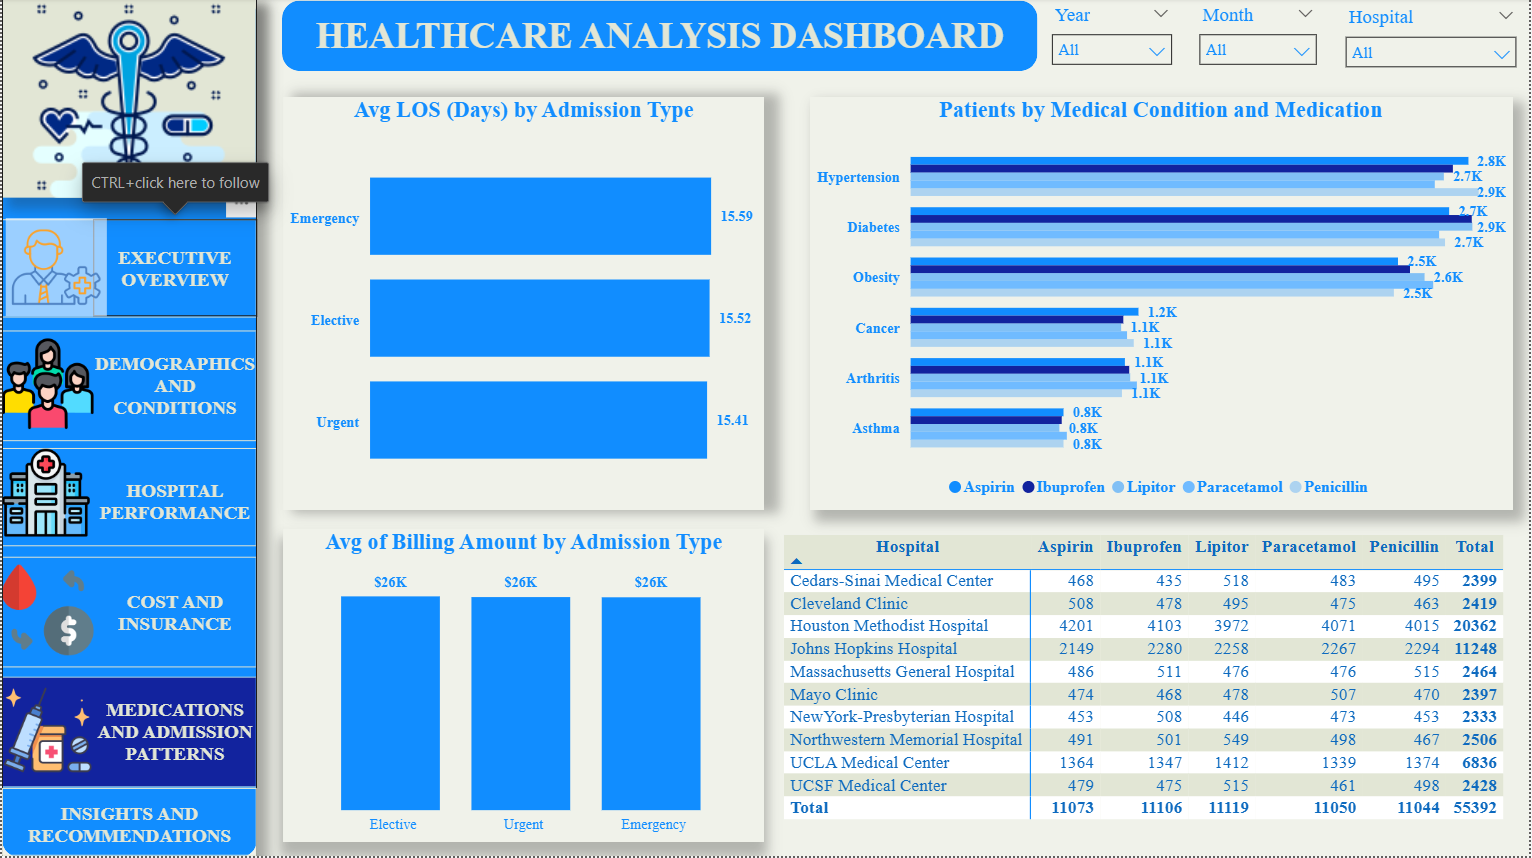

The dashboard page shown, as its layout file describes it:
{"tool":"powerbi","page":{"name":"Page 5","canvas":[1280,720],"ordinal":4},"visuals":[{"type":"shape","box":[0,0,214,720.9],"z":0,"group":"g1"},{"type":"clusteredBarChart","title":"Patients by Medical Condition and Medication","fields":{"Category":["Data.Medical Condition"],"Y":["Data.Total Patients"],"Series":["Data.Medication"]},"box":[676.7,82.6,589.5,346.5],"z":0},{"type":"clusteredBarChart","title":"Avg LOS (Days) by Admission Type","fields":{"Category":["Data.Admission Type"],"Y":["Avg(Data.Length of Stay (Days))"]},"box":[236,82.6,403.5,346.5],"z":1000},{"type":"clusteredColumnChart","title":"Avg of Billing Amount by Admission Type","fields":{"Y":["Avg(Data.Billing Amount)"],"Category":["Data.Admission Type"]},"box":[236,445.4,403.5,262.8],"z":2000},{"type":"pivotTable","fields":{"Rows":["Data.Hospital"],"Columns":["Data.Medication"],"Values":["Data.Total Patients"]},"box":[651.2,445.4,615.1,262.8],"z":3000},{"type":"slicer","fields":{"Values":["Data.Date of Admission.Variation.Date Hierarchy.Year"]},"box":[869.8,0,120.9,61.6],"z":4000},{"type":"slicer","fields":{"Values":["Data.Hospital"]},"box":[1116,2.3,164,59.3],"z":5000},{"type":"slicer","fields":{"Values":["Data.Date of Admission.Variation.Date Hierarchy.Month"]},"box":[994.2,0,118.6,61.6],"z":6000},{"type":"group","id":"g1","title":"Group 10","box":[0,0,214,720.9],"z":7000,"group":"g2"},{"type":"shape","box":[234.9,2.3,633.7,59.3],"z":7000},{"type":"group","id":"g2","title":"Group 1","box":[0,0,214,720.9],"z":8000},{"type":"group","id":"g3","title":"Group 7","box":[0,184.4,214,83.3],"z":8000,"group":"g2"},{"type":"group","id":"g4","title":"Group 9","box":[0,662.8,214,57],"z":9000},{"type":"shape","box":[0,279.2,214,93],"z":16000,"group":"g6"},{"type":"group","id":"g5","title":"Group 8","box":[0,369.6,214,89.5],"z":16000,"group":"g1"},{"type":"shape","box":[0,468.8,214,93],"z":16000,"group":"g7"},{"type":"shape","box":[0,569.6,214,93],"z":16000,"group":"g8"},{"type":"shape","box":[0,662.8,214,57],"z":16000,"group":"g4"},{"type":"group","id":"g6","title":"Group 9","box":[0,279.2,214,93],"z":17000,"group":"g1"},{"type":"group","id":"g7","title":"Group 9","box":[0,468.8,214,93],"z":18000,"group":"g1"},{"type":"shape","box":[0,185.2,214,82.6],"z":18500,"group":"g3"},{"type":"group","id":"g8","title":"Group 9","box":[0,569.6,214,93],"z":19000,"group":"g1"},{"type":"shape","box":[0,376.5,214,82.6],"z":19500,"group":"g5"},{"type":"image","box":[0,1.2,212.8,166.3],"z":20000,"group":"g1"},{"type":"shape","box":[76.7,185.1,137.2,82.6],"z":21500,"group":"g3"},{"type":"image","box":[3.5,184.4,84.9,82.6],"z":22000,"group":"g3"},{"type":"image","box":[0,369.6,73.3,89.5],"z":23000,"group":"g5"},{"type":"shape","box":[76.7,385.2,137.2,73.3],"z":26500,"group":"g5"},{"type":"image","box":[0,280.3,76.7,87.2],"z":27001,"group":"g6"},{"type":"image","box":[0,469.9,76.7,87.2],"z":27001,"group":"g7"},{"type":"image","box":[0,570.7,76.7,87.2],"z":27001,"group":"g8"},{"type":"shape","box":[76.7,280.1,137.2,90.7],"z":27501,"group":"g6"},{"type":"shape","box":[76.7,470.2,137.2,90.7],"z":27501,"group":"g7"},{"type":"shape","box":[76.7,570.1,137.2,91.9],"z":27501,"group":"g8"},{"type":"shape","box":[0,666.5,214,52.3],"z":27501,"group":"g4"}]}

Visuals, with their boxes in screenshot pixels (x1, y1, x2, y2), scaled from the page's 1280x720 canvas onto the 1532x858 screenshot:
shape: x1=0 y1=0 x2=256 y2=857
"Patients by Medical Condition and Medication" clusteredBarChart: x1=810 y1=98 x2=1515 y2=511
"Avg LOS (Days) by Admission Type" clusteredBarChart: x1=282 y1=98 x2=765 y2=511
"Avg of Billing Amount by Admission Type" clusteredColumnChart: x1=282 y1=531 x2=765 y2=844
pivotTable - Data.Hospital x Data.Medication: x1=779 y1=531 x2=1516 y2=844
slicer - Data.Date of Admission.Variation.Date Hierarchy.Year: x1=1041 y1=0 x2=1186 y2=73
slicer - Data.Hospital: x1=1336 y1=3 x2=1531 y2=73
slicer - Data.Date of Admission.Variation.Date Hierarchy.Month: x1=1190 y1=0 x2=1332 y2=73
"Group 10" group: x1=0 y1=0 x2=256 y2=857
shape: x1=281 y1=3 x2=1040 y2=73
"Group 1" group: x1=0 y1=0 x2=256 y2=857
"Group 7" group: x1=0 y1=220 x2=256 y2=319
"Group 9" group: x1=0 y1=790 x2=256 y2=857
shape: x1=0 y1=333 x2=256 y2=444
"Group 8" group: x1=0 y1=440 x2=256 y2=547
shape: x1=0 y1=559 x2=256 y2=669
shape: x1=0 y1=679 x2=256 y2=790
shape: x1=0 y1=790 x2=256 y2=857
"Group 9" group: x1=0 y1=333 x2=256 y2=444
"Group 9" group: x1=0 y1=559 x2=256 y2=669
shape: x1=0 y1=221 x2=256 y2=319
"Group 9" group: x1=0 y1=679 x2=256 y2=790
shape: x1=0 y1=449 x2=256 y2=547
image: x1=0 y1=1 x2=255 y2=200
shape: x1=92 y1=221 x2=256 y2=319
image: x1=4 y1=220 x2=106 y2=318
image: x1=0 y1=440 x2=88 y2=547
shape: x1=92 y1=459 x2=256 y2=546
image: x1=0 y1=334 x2=92 y2=438
image: x1=0 y1=560 x2=92 y2=664
image: x1=0 y1=680 x2=92 y2=784
shape: x1=92 y1=334 x2=256 y2=442
shape: x1=92 y1=560 x2=256 y2=668
shape: x1=92 y1=679 x2=256 y2=789
shape: x1=0 y1=794 x2=256 y2=857
